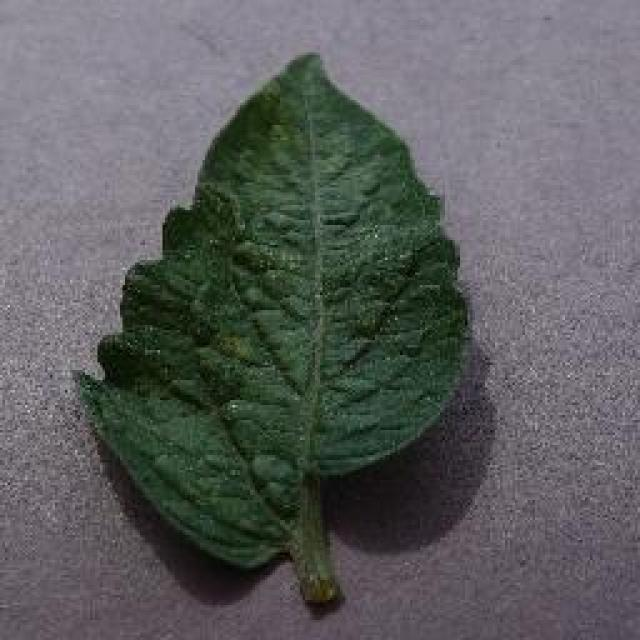Tom_Spider_mites Two-spotted_spider_mite: (179, 114, 401, 422)
